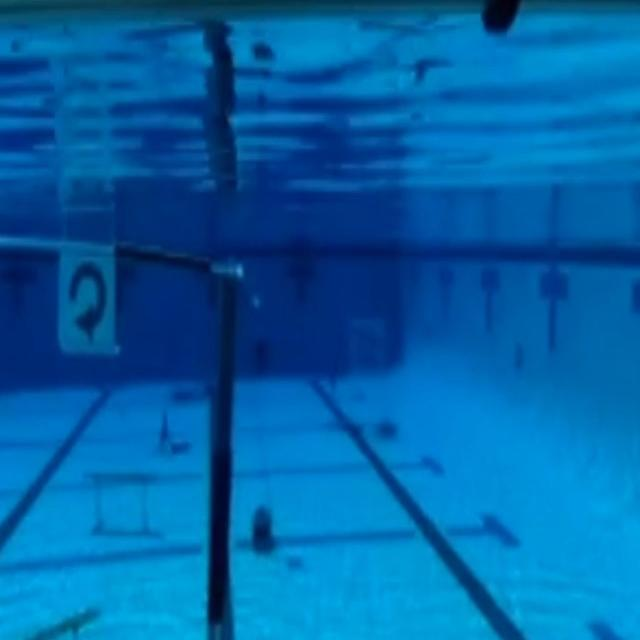Gate: (0, 228, 238, 632)
